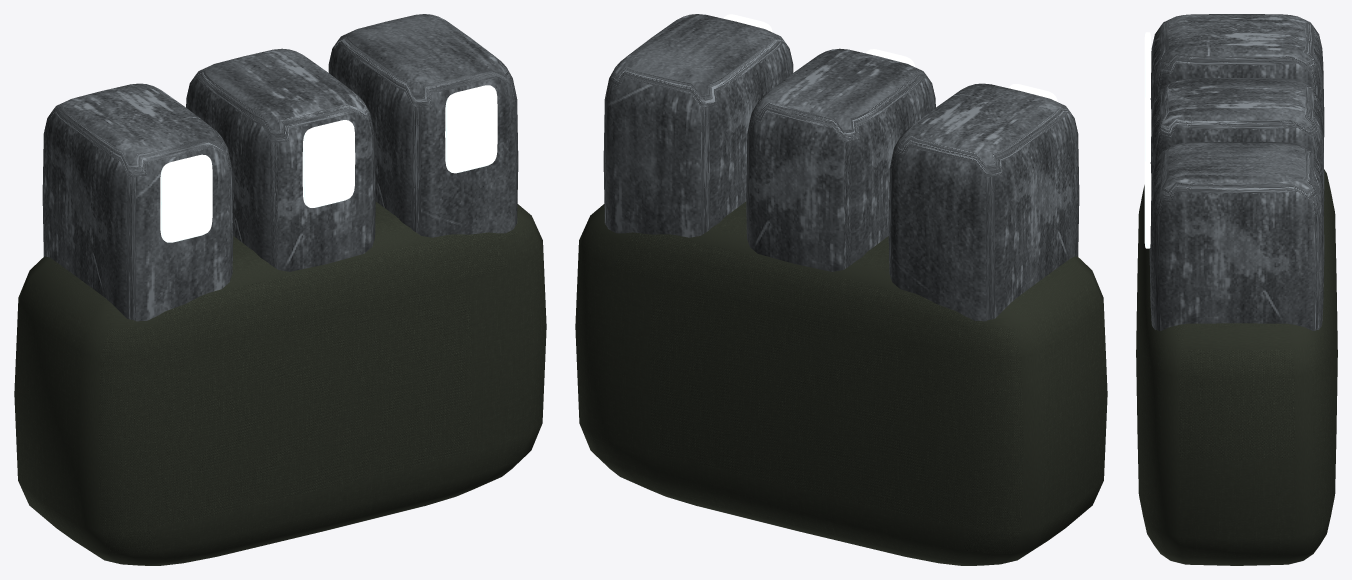
File: cell_pack.glb
3 views of the same model, side by side, from view 1: azimuth 30°, elevation 25°; view 2: azimuth 150°, elevation 25°; view 3: azimuth 270°, elevation 25° (orthographic). The views are drawn at different scales.
Visible parts, largest first — view 1: cell_pack; view 2: cell_pack; view 3: cell_pack.
Boxes of the visible parts, x1,y1,x2,y2 form: cell_pack: (14, 14, 546, 565); cell_pack: (575, 14, 1107, 565); cell_pack: (1136, 14, 1337, 565).
Size of the model in its own units: 0.15 by 0.13 by 0.06.
Materials: 3 (2 with a texture image).
